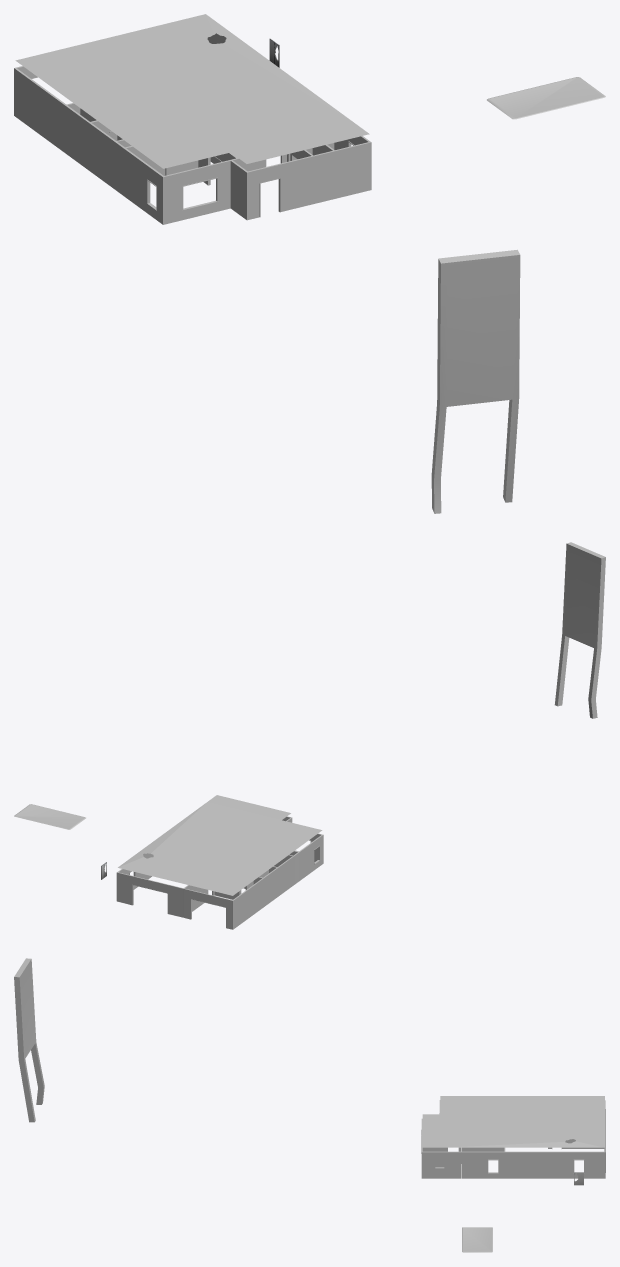
Rendered from GJHouseRoof.fbx.
The picture shows the model from 3 angles, top to bottom: view 1: azimuth 30°, elevation 25°; view 2: azimuth 150°, elevation 25°; view 3: azimuth 270°, elevation 25°; orthographic projection. The views are drawn at different scales.
Parts seen in each view (by area): view 1: Plane.005, Plane, 6twelve_Sign, Plane.006; view 2: Plane.005, Plane, 6twelve_Sign, Plane.006; view 3: Plane.005, Plane, 6twelve_Sign, Plane.006.
Boxes of the visible parts, bbox=[...] form: Plane.005: bbox=[15, 14, 369, 168]; Plane: bbox=[14, 33, 371, 224]; 6twelve_Sign: bbox=[431, 249, 520, 513]; Plane.006: bbox=[487, 77, 605, 119]; Plane.005: bbox=[118, 795, 322, 895]; Plane: bbox=[116, 816, 323, 929]; 6twelve_Sign: bbox=[554, 542, 605, 718]; Plane.006: bbox=[14, 804, 85, 829]; Plane.005: bbox=[422, 1096, 604, 1147]; Plane: bbox=[421, 1100, 605, 1178]; 6twelve_Sign: bbox=[14, 958, 44, 1122]; Plane.006: bbox=[462, 1227, 492, 1252].
Bounding box in the file's own units: 2361 × 1050 × 3902.
